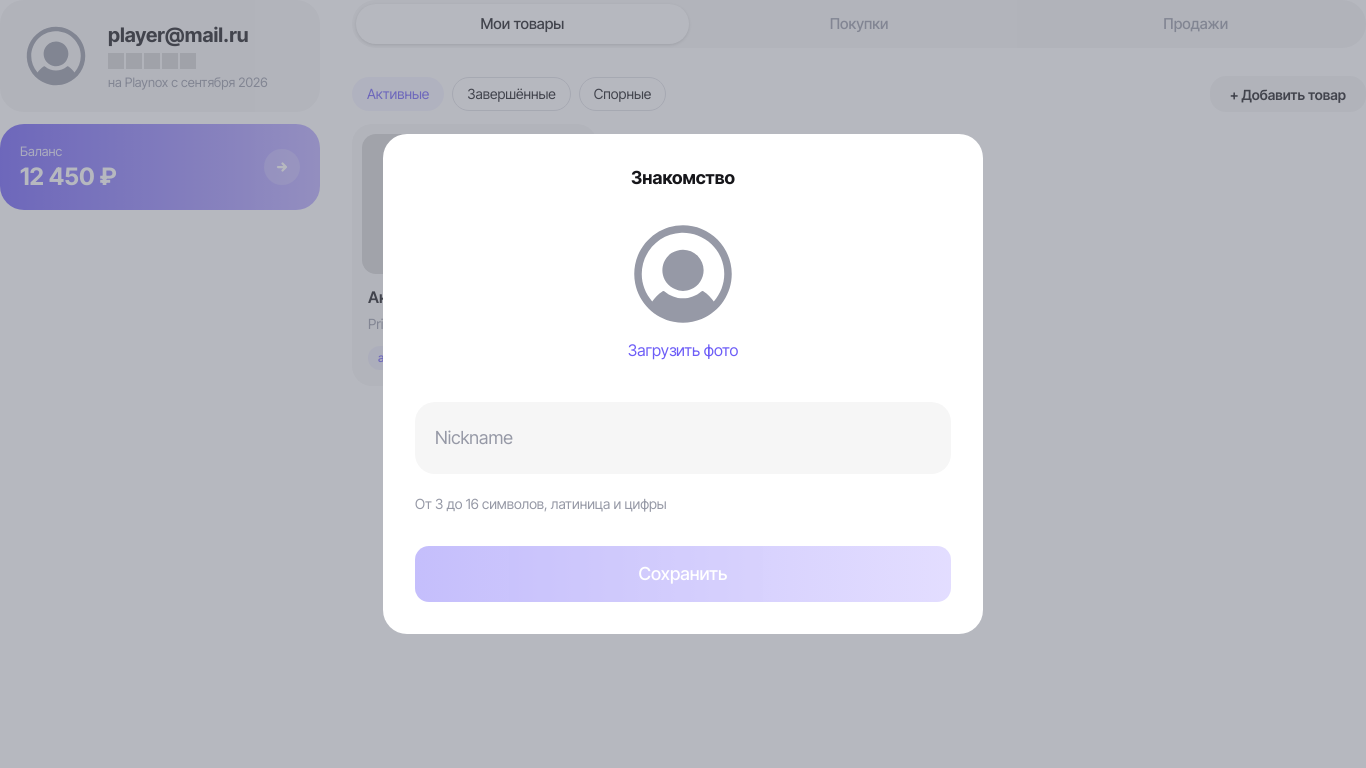
Test: ProfileScreen › asks for a nickname when the username is a placeholder
Expected: the heading "Знакомство" is shown, [631, 167, 735, 188]
Expected: the button "Сохранить" is disabled, [415, 546, 951, 602]
In the field labelled "Nickname": coordinates (683, 438) [435, 426, 931, 450], type "ни"
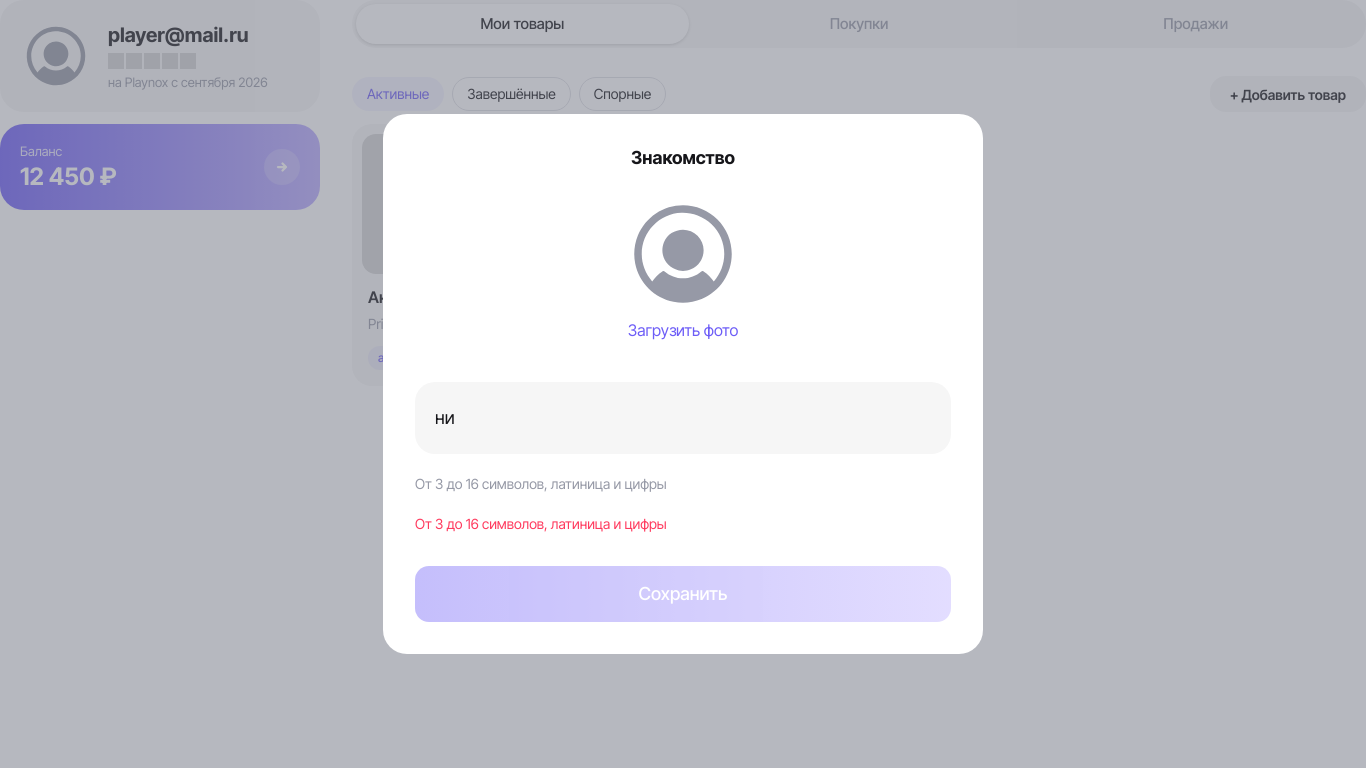
Expected: the message shows "латиница и цифры", [415, 515, 667, 532]
Clear the field named "Nickname": coordinates (683, 418) [435, 406, 931, 430]
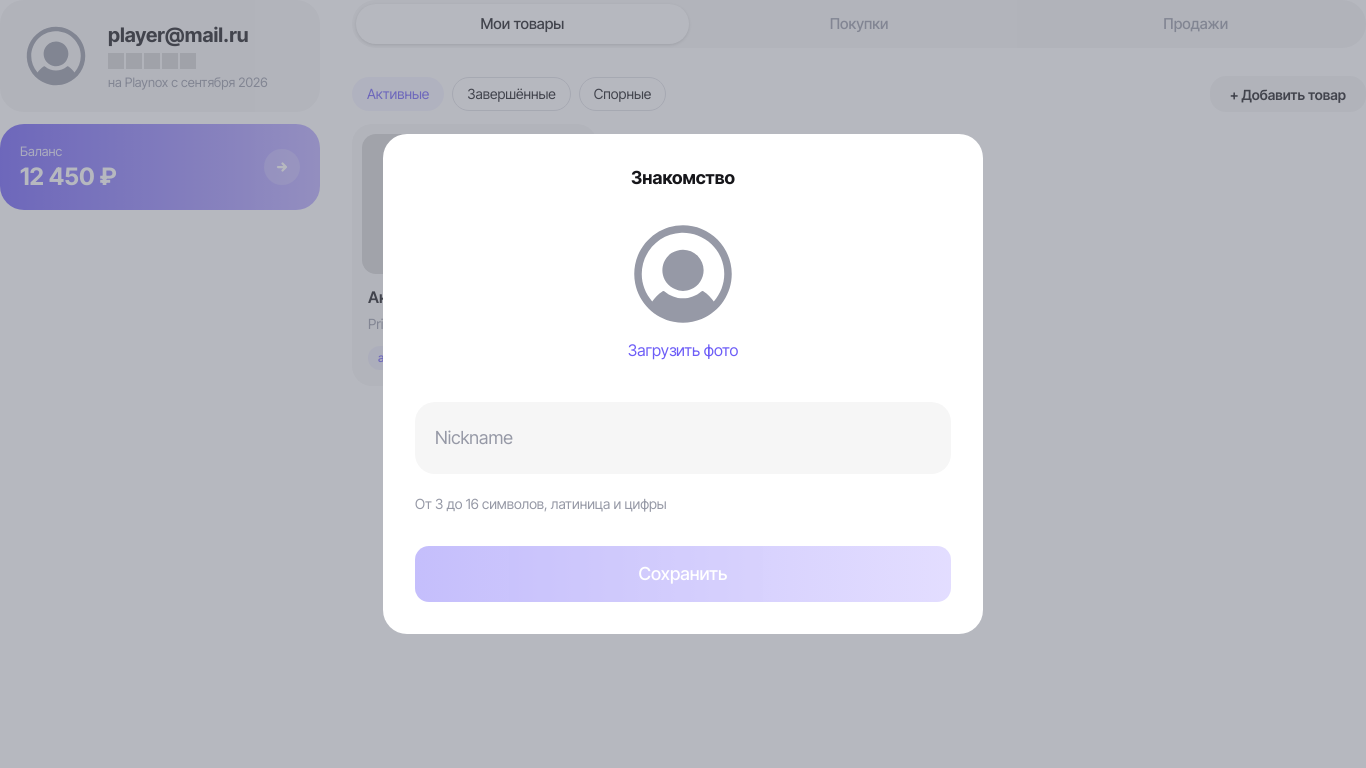
In the field labelled "Nickname": coordinates (683, 438) [435, 426, 931, 450], type "Nick42"
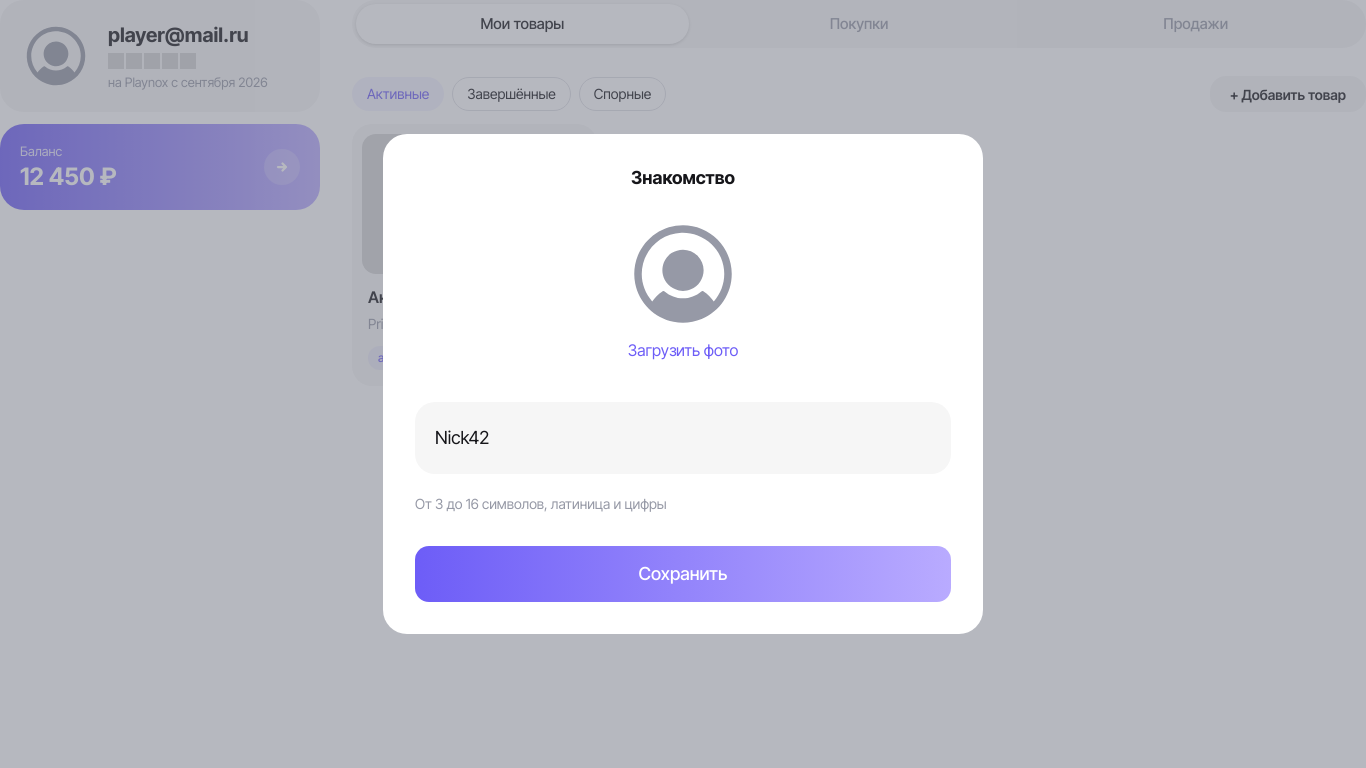
Click the button "Сохранить": coordinates (683, 574) [415, 546, 951, 602]
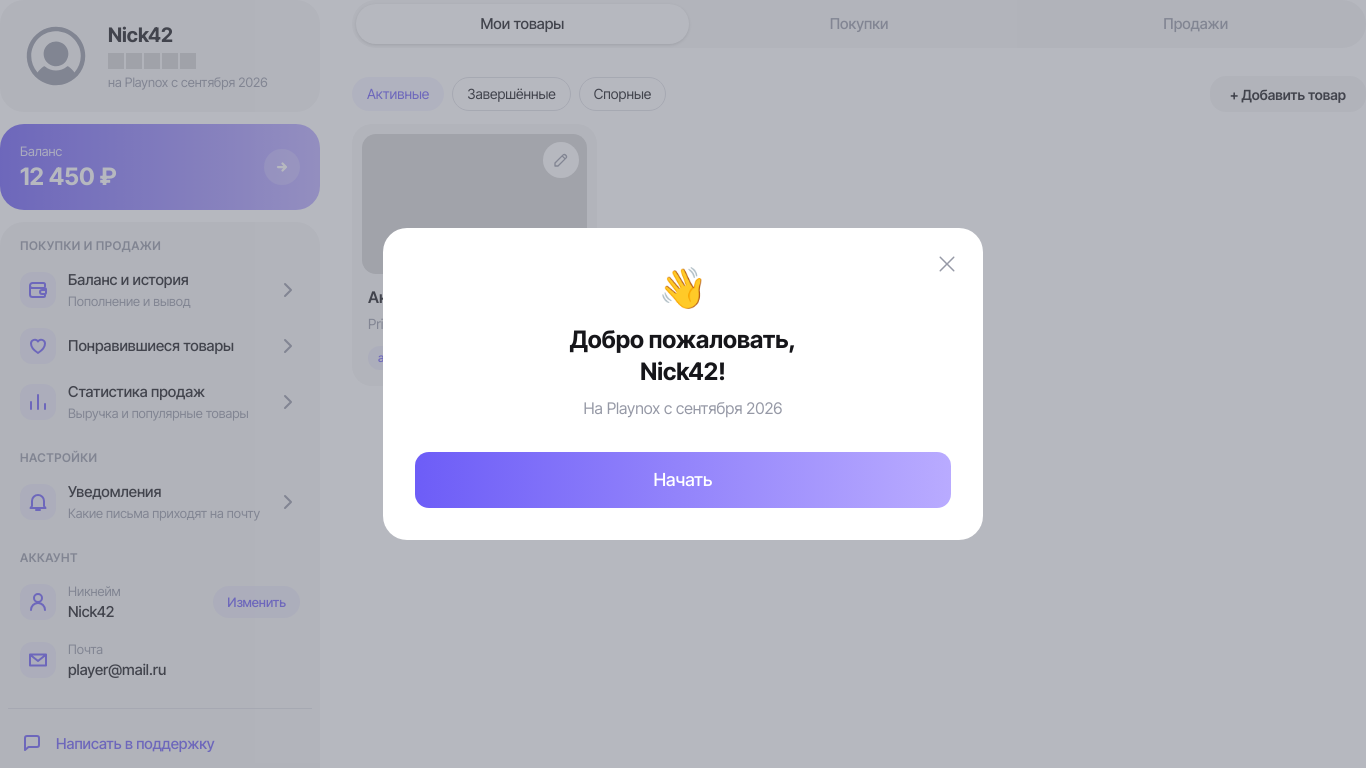
Expected: the dialog "👋 Добро пожаловать,Nick42! На Playnox с сентября 2026 Начать" is shown, [383, 228, 983, 540]
